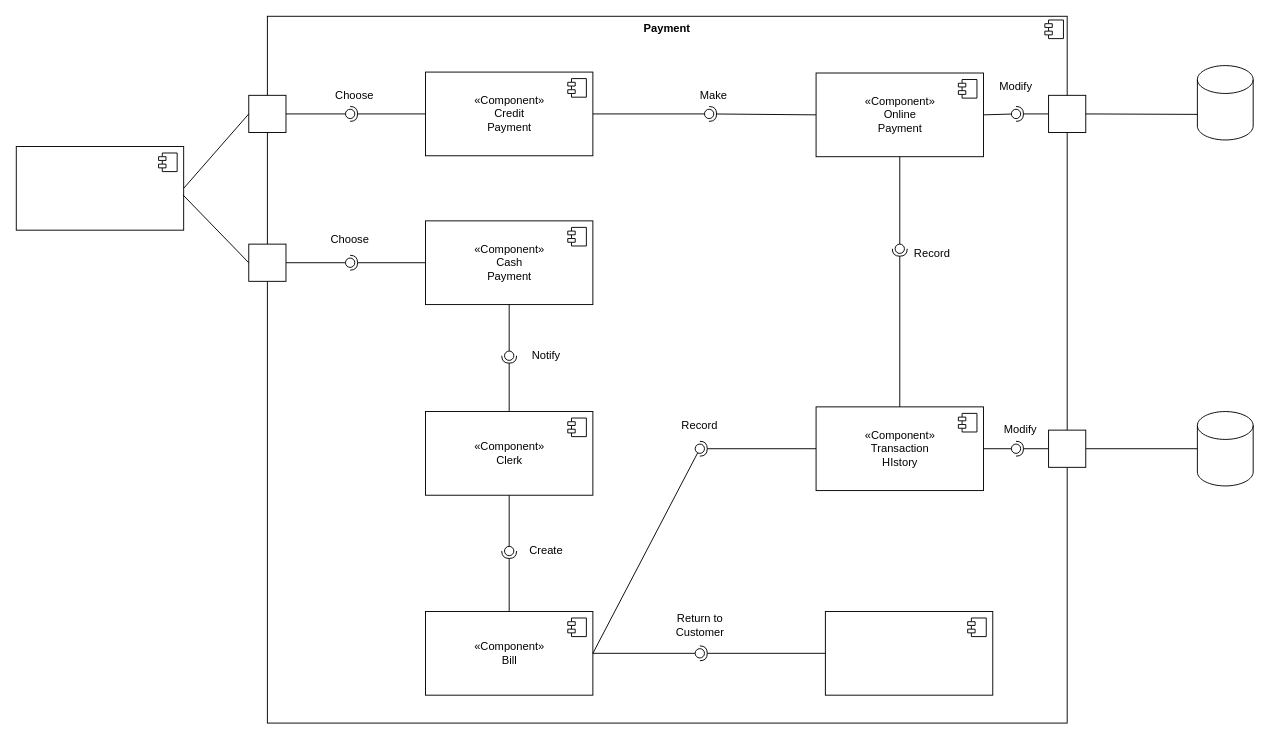
Image size: 1269x739. Some labels were removed from this diagram. Here are the shapes that lost their labels. From the top down, the centre of each, then its label:
At pixel 1224 102: "Bank Database".
At pixel 99 188: "«Component» Processed Order".
At pixel 1224 448: "Customer Database".
At pixel 908 653: "«Component» Charge".
